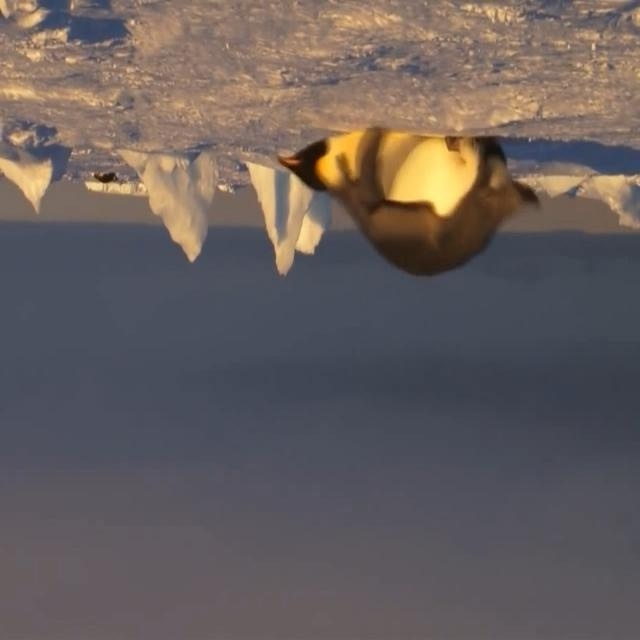penguin: (275, 127, 542, 277)
